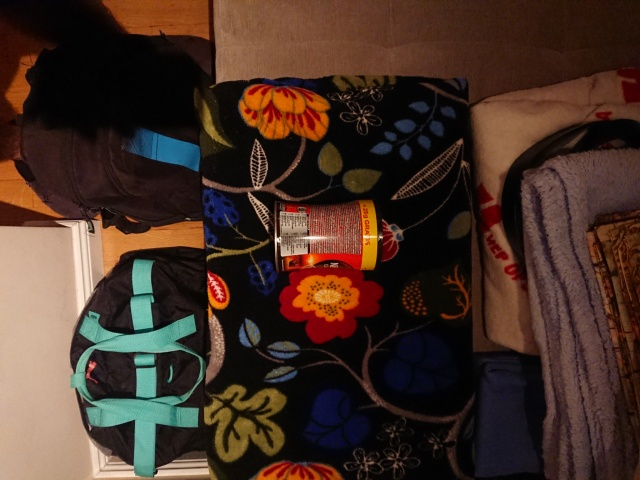Nescafe Classic 225g: (270, 195, 387, 275)
